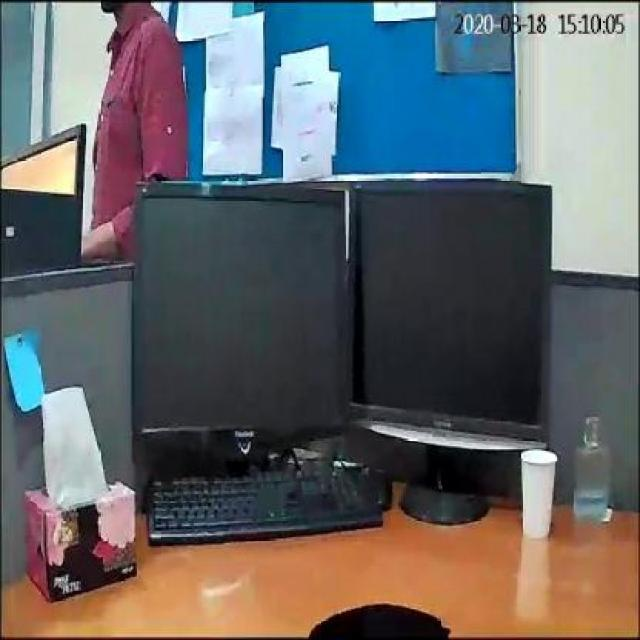spill: (304, 600, 446, 637)
